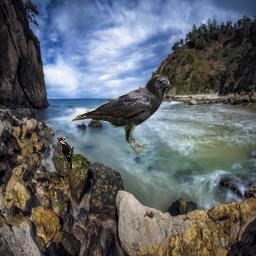Crow: (68, 75, 170, 156)
Woodpecker: (57, 136, 74, 173)
